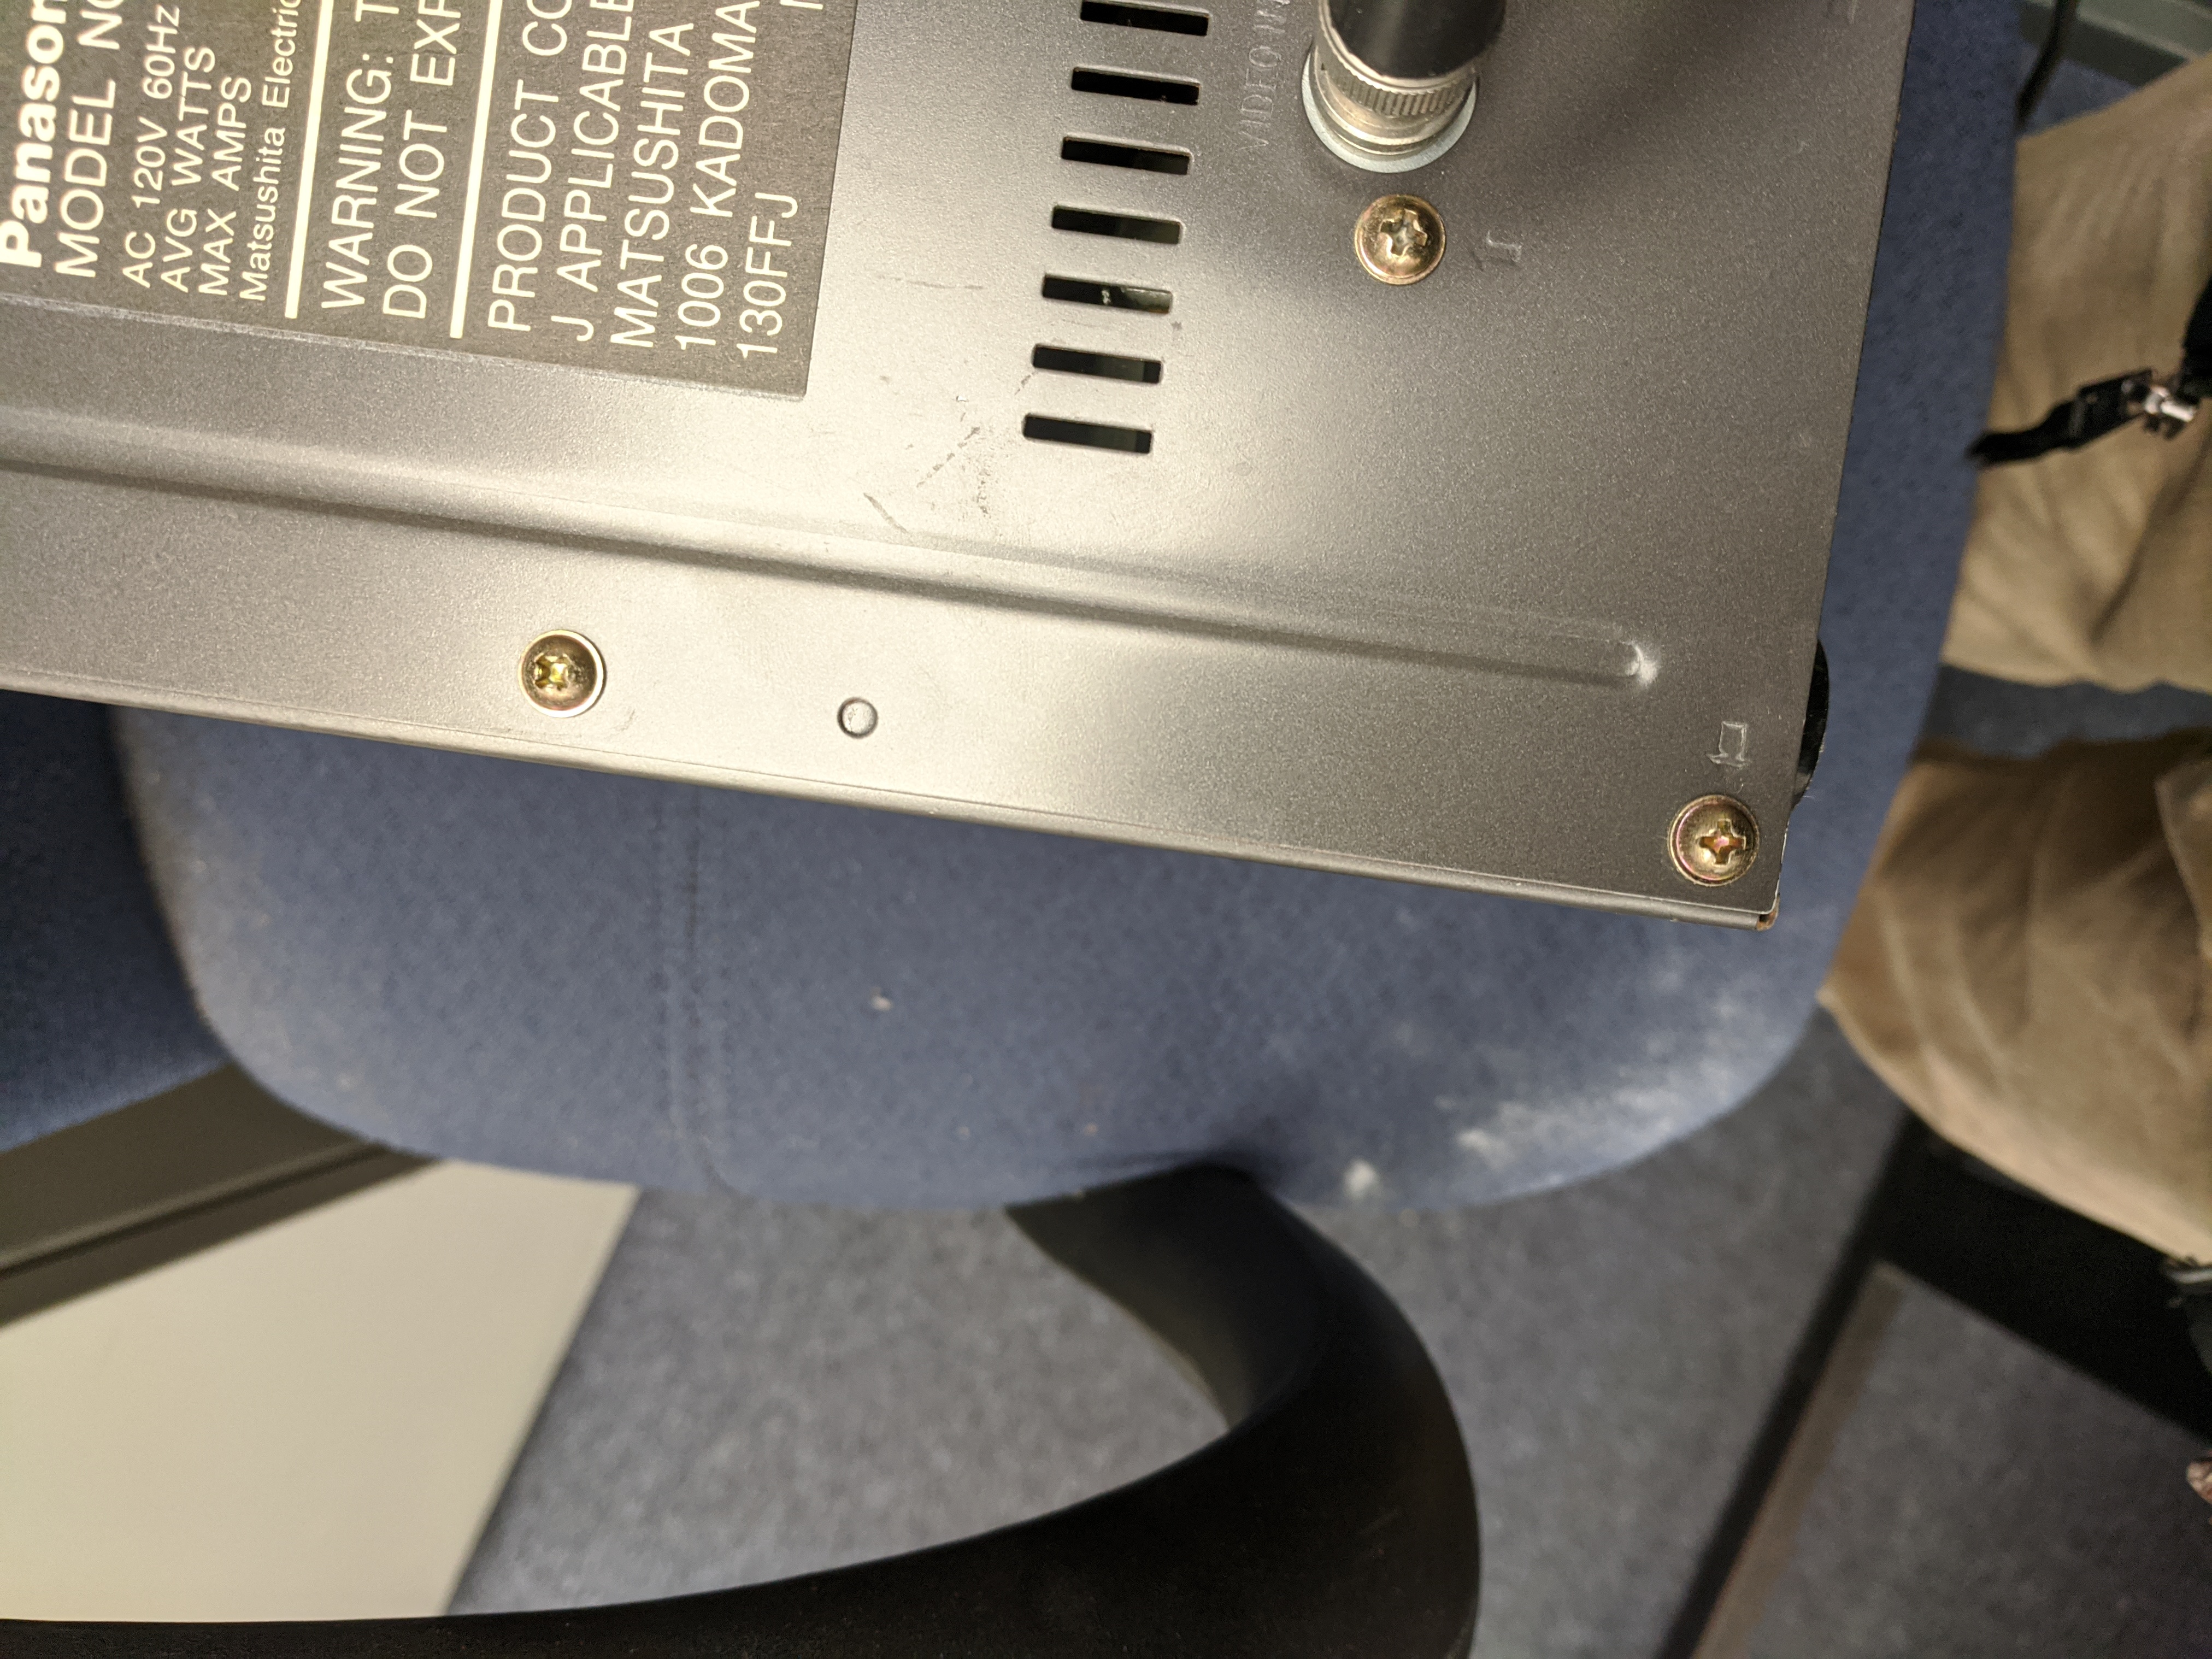cross_recessed_screw: (1345, 190, 1449, 277), (1665, 789, 1763, 880), (505, 624, 594, 708)
